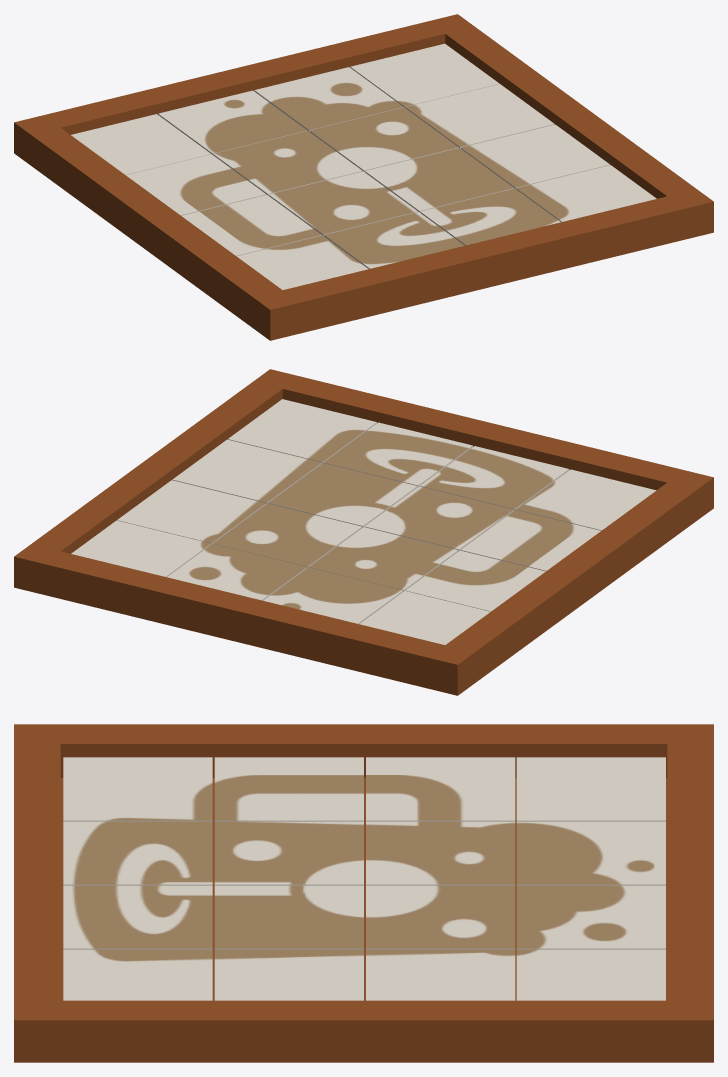
File: Puzzle_Pieces.fbx
The picture shows the model from 3 angles, top to bottom: view 1: azimuth 30°, elevation 25°; view 2: azimuth 150°, elevation 25°; view 3: azimuth 270°, elevation 25°; orthographic projection. The views are drawn at different scales.
Visible parts, largest first — view 1: Box_Pieces, Piece_07, Piece_06, Piece_10, Piece_11, Piece_08, Piece_12, Piece_02, Piece_03, Piece_04, Piece_05, Piece_09 (+5 smaller); view 2: Box_Pieces, Piece_11, Piece_10, Piece_15, Piece_14, Piece_12, Piece_16, Piece_07, Piece_06, Piece_08, Piece_09, Piece_13 (+5 smaller); view 3: Box_Pieces, Piece_01, Piece_05, Piece_09, Piece_15, Piece_14, Piece_13, Piece_02, Piece_03, Piece_07, Piece_06, Piece_11 (+5 smaller).
Part boxes in pixels (x1,y1,x2,y2): Box_Pieces: (14, 14, 713, 340); Piece_07: (309, 107, 458, 172); Piece_06: (213, 131, 362, 195); Piece_10: (268, 171, 417, 235); Piece_11: (365, 148, 514, 212); Piece_08: (405, 84, 554, 148); Piece_12: (461, 124, 609, 188); Piece_02: (158, 90, 307, 154); Piece_03: (254, 67, 403, 131); Piece_04: (350, 43, 499, 107); Piece_05: (126, 154, 266, 215); Piece_09: (181, 195, 321, 256); Box_Pieces: (14, 369, 713, 695); Piece_11: (268, 463, 417, 527); Piece_10: (364, 486, 513, 551); Piece_15: (323, 422, 472, 486); Piece_14: (420, 446, 569, 510); Piece_12: (172, 439, 321, 503); Piece_16: (227, 399, 376, 463); Piece_07: (213, 503, 362, 568); Piece_06: (309, 527, 458, 591); Piece_08: (117, 480, 266, 544); Piece_09: (460, 510, 600, 571); Piece_13: (516, 469, 656, 530); Box_Pieces: (14, 724, 713, 1062); Piece_01: (516, 757, 665, 821); Piece_05: (366, 757, 515, 821); Piece_09: (214, 757, 363, 821); Piece_15: (63, 885, 212, 949); Piece_14: (63, 821, 212, 885); Piece_13: (63, 757, 212, 821); Piece_02: (516, 821, 665, 885); Piece_03: (516, 885, 665, 949); Piece_07: (366, 885, 515, 949); Piece_06: (366, 821, 515, 885); Piece_11: (214, 885, 363, 949).
Bounding box in the file's own units: 19 × 19 × 1.27.
